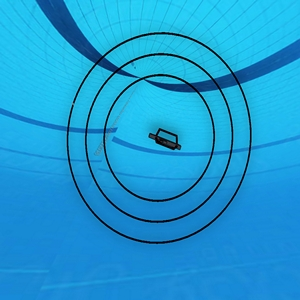circle: (66, 32, 251, 247)
submarine: (149, 127, 181, 152)
